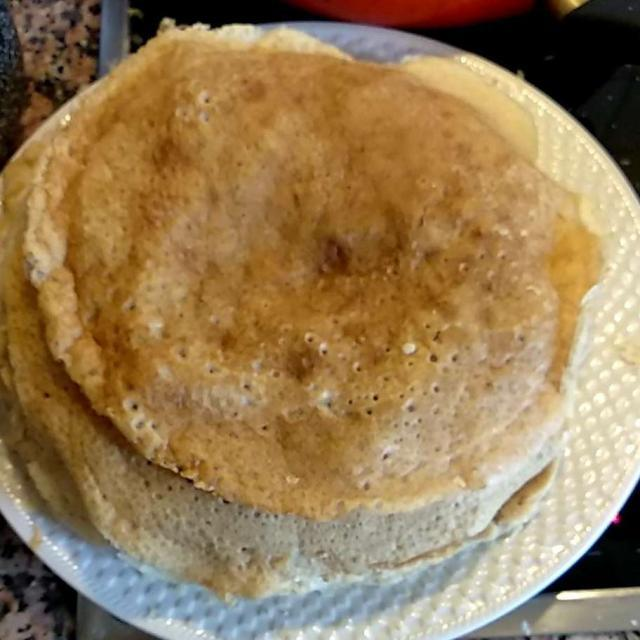pancake: (9, 37, 593, 574)
